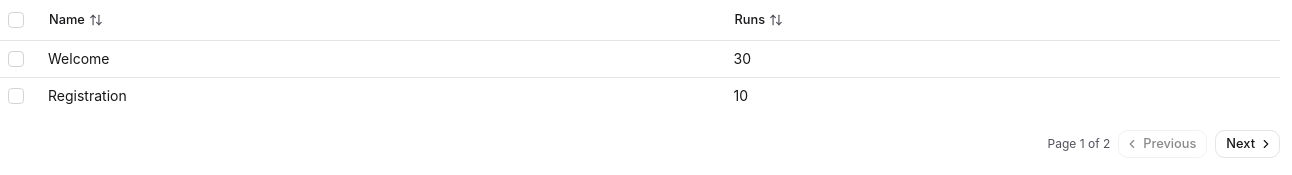
Scenario: DataTable › paginates on the client
Expected: the text "Page 1 of 2" is shown, [1048,134,1110,152]
Click the button "Next" at [1248, 144], box [1215,130,1280,158]
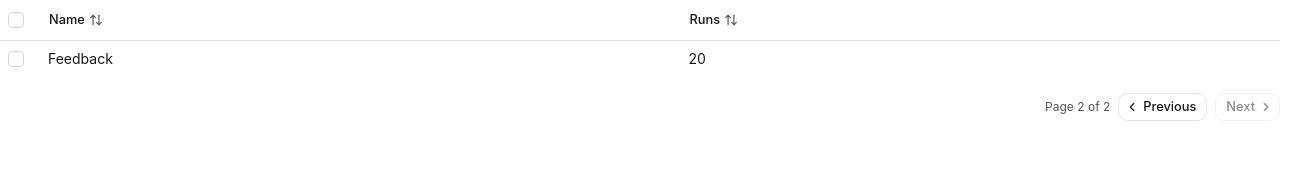
Result: the button "Next" is disabled at [1215,92,1280,120]
